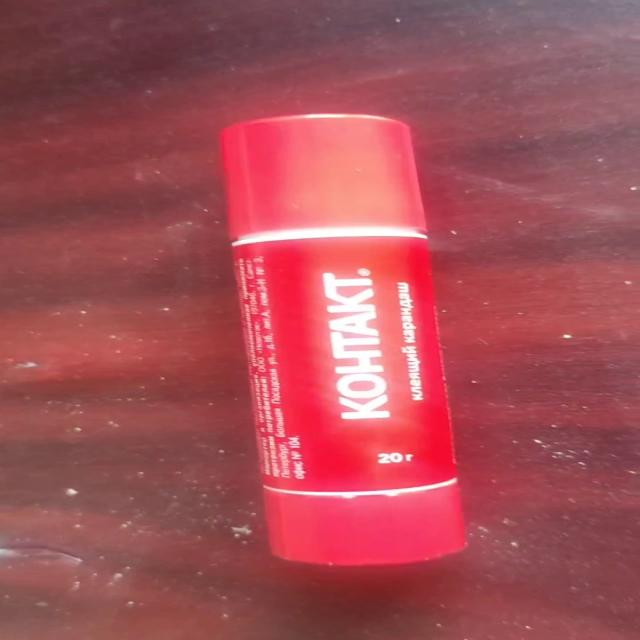glue: (218, 111, 468, 566)
